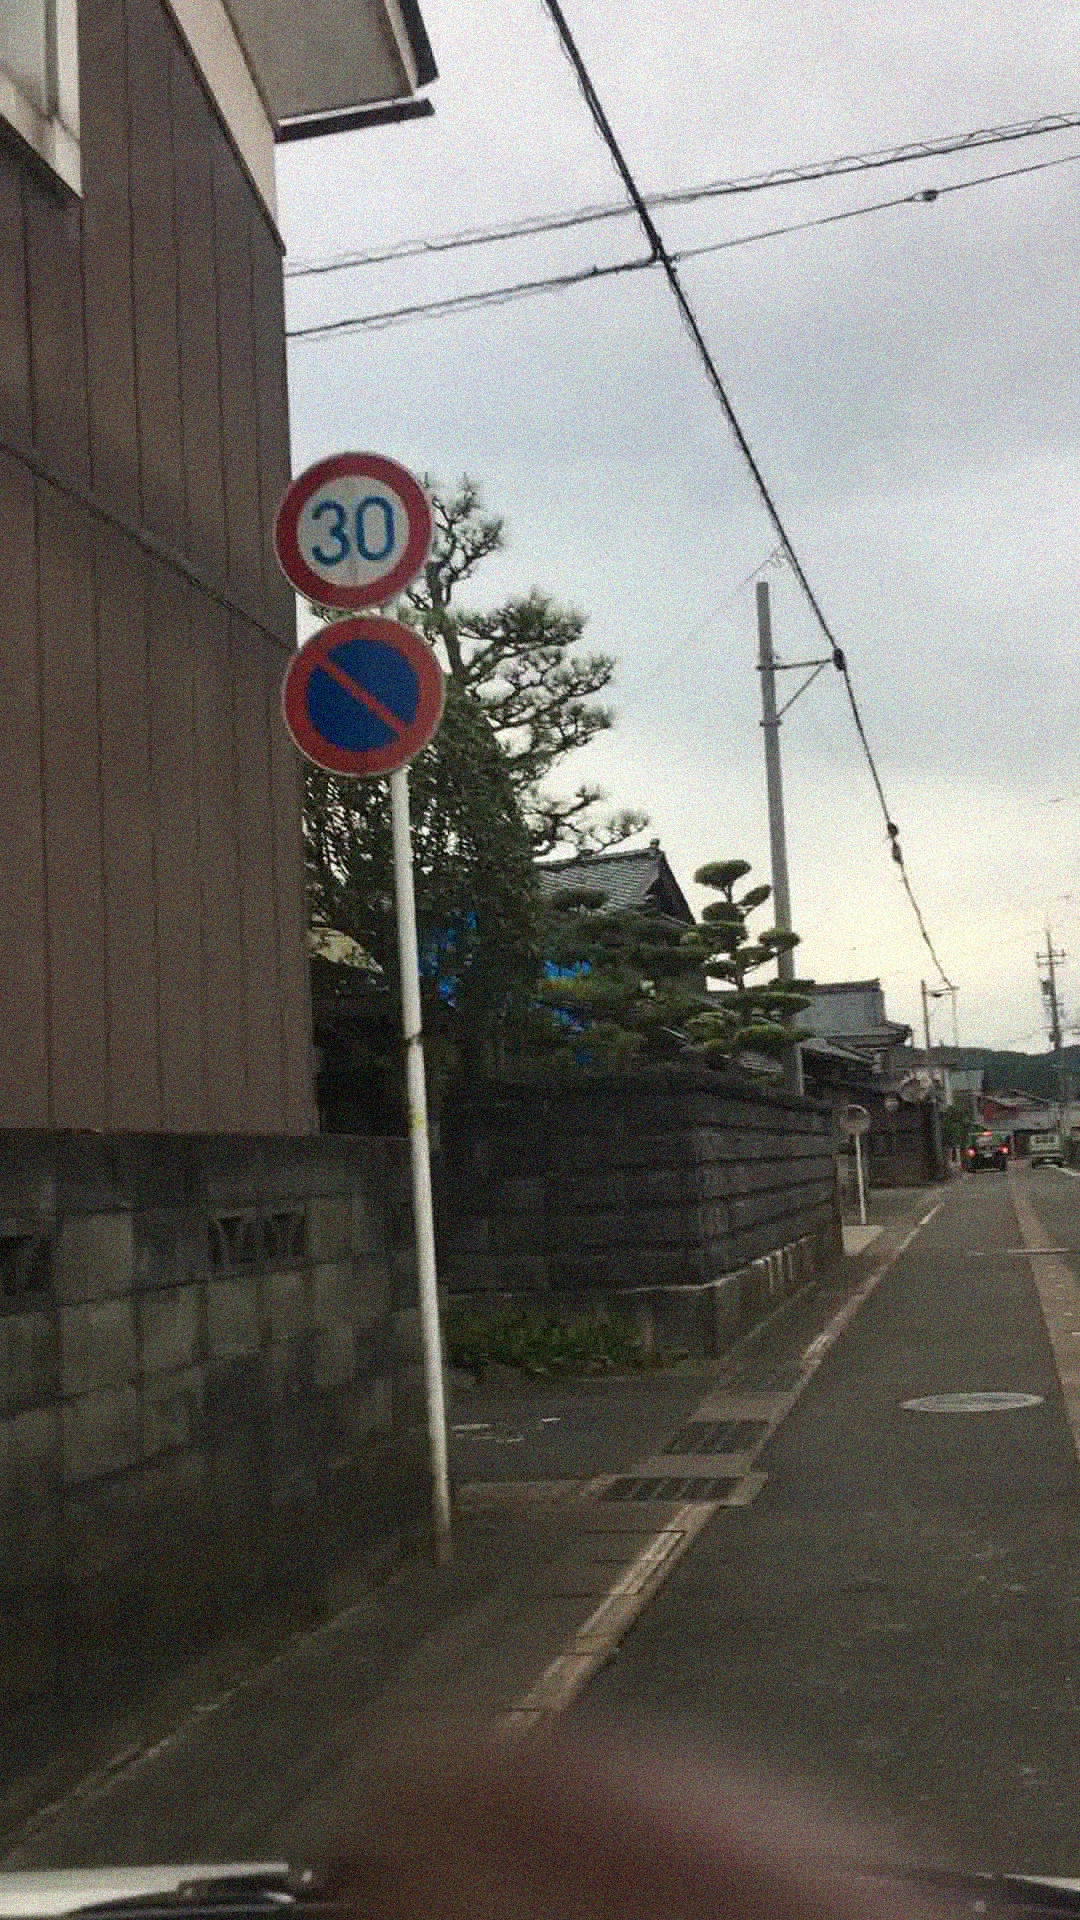Prohibition_sign: (295, 620, 454, 778)
Speed_sign: (266, 438, 448, 616)
